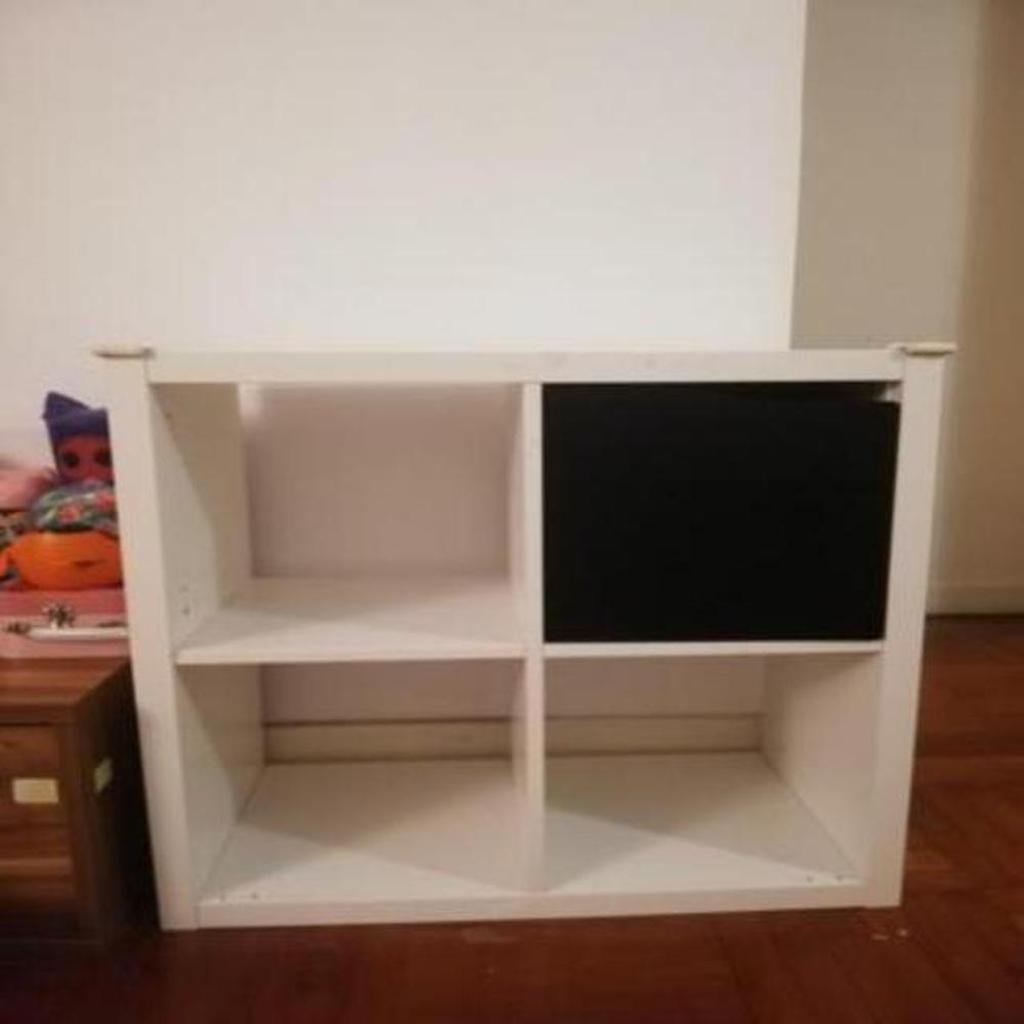lamp: (97, 332, 951, 931)
